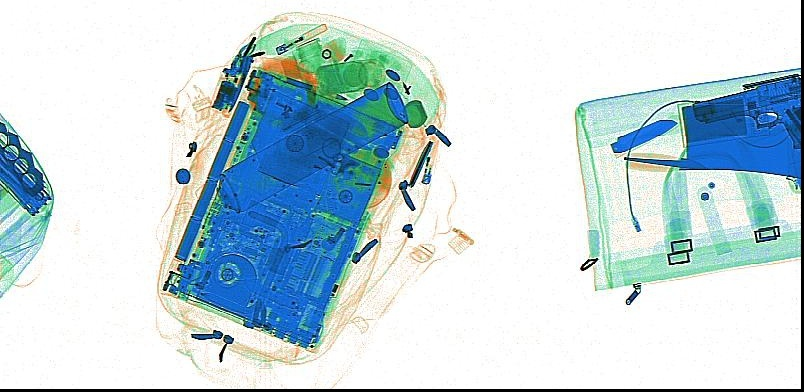knife: (624, 109, 799, 178), (1, 122, 43, 200), (609, 118, 678, 159), (407, 139, 432, 187)
lighter: (274, 22, 328, 56), (420, 139, 438, 184)
pressure: (192, 79, 408, 218)
